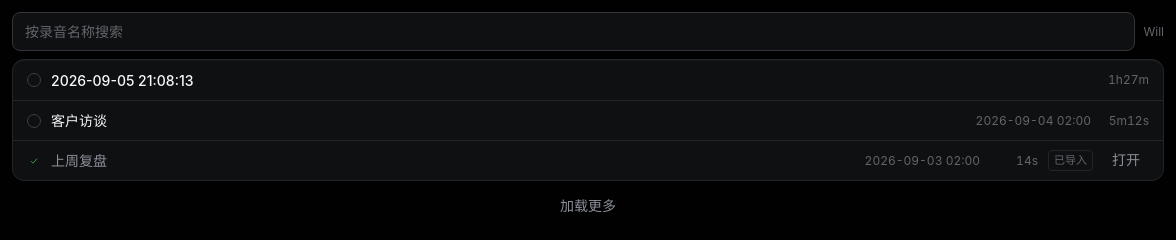
Test: Plaud 录音选择器 › 不管服务端怎么给，列表都按开始时间从新到旧排；加载更多后依然有序
This screenshot has width=1176, height=240.
Expected: the text "客户访谈" is shown, [51,112,107,129]
Click the button "加载更多". click: (588, 206)
box: [545,189,631,224]
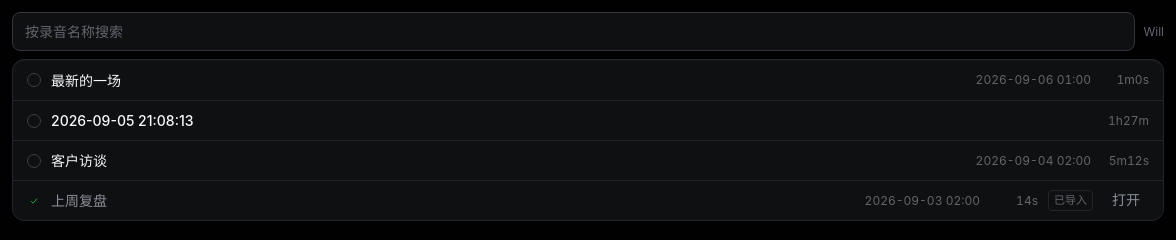
Expected: the text "最新的一场" is shown, [51,72,121,88]
